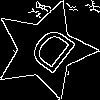D: (20, 24, 79, 83)
